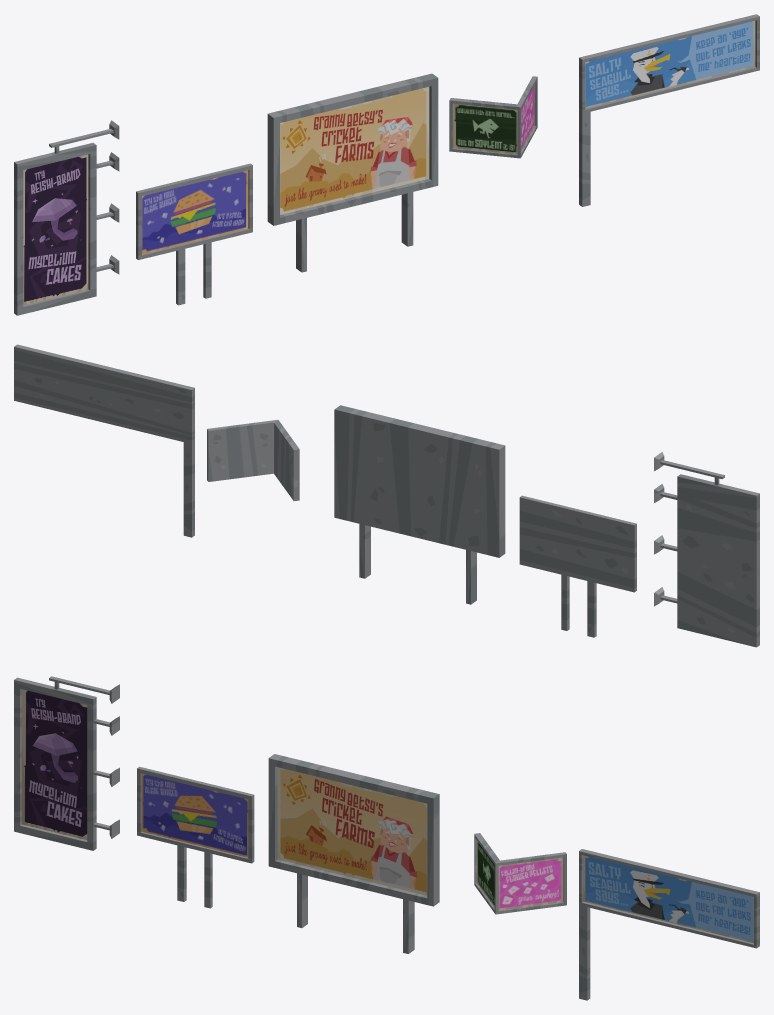
File: BillboardsUVed 1.FBX
The picture shows the model from 3 angles, top to bottom: view 1: azimuth 30°, elevation 25°; view 2: azimuth 150°, elevation 25°; view 3: azimuth 330°, elevation 25°; orthographic projection.
Parts seen in each view (by area): view 1: 4, Billboard1, 6, 2, 5; view 2: 4, Billboard1, 6, 2, 5; view 3: 4, Billboard1, 6, 2, 5.
Part boxes in pixels (box(x1,y1,x2,y2)): 4: box(267, 73, 438, 272); Billboard1: box(14, 120, 119, 315); 6: box(579, 14, 759, 206); 2: box(136, 163, 252, 305); 5: box(449, 76, 537, 158); 4: box(334, 405, 505, 604); Billboard1: box(654, 452, 759, 647); 6: box(14, 344, 194, 537); 2: box(519, 495, 636, 637); 5: box(207, 419, 299, 501); 4: box(268, 754, 439, 953); Billboard1: box(14, 676, 119, 850); 6: box(579, 849, 759, 1000); 2: box(137, 766, 254, 908); 5: box(474, 833, 566, 914).
Size of the model in its own units: 1458 by 370 by 98.6.
